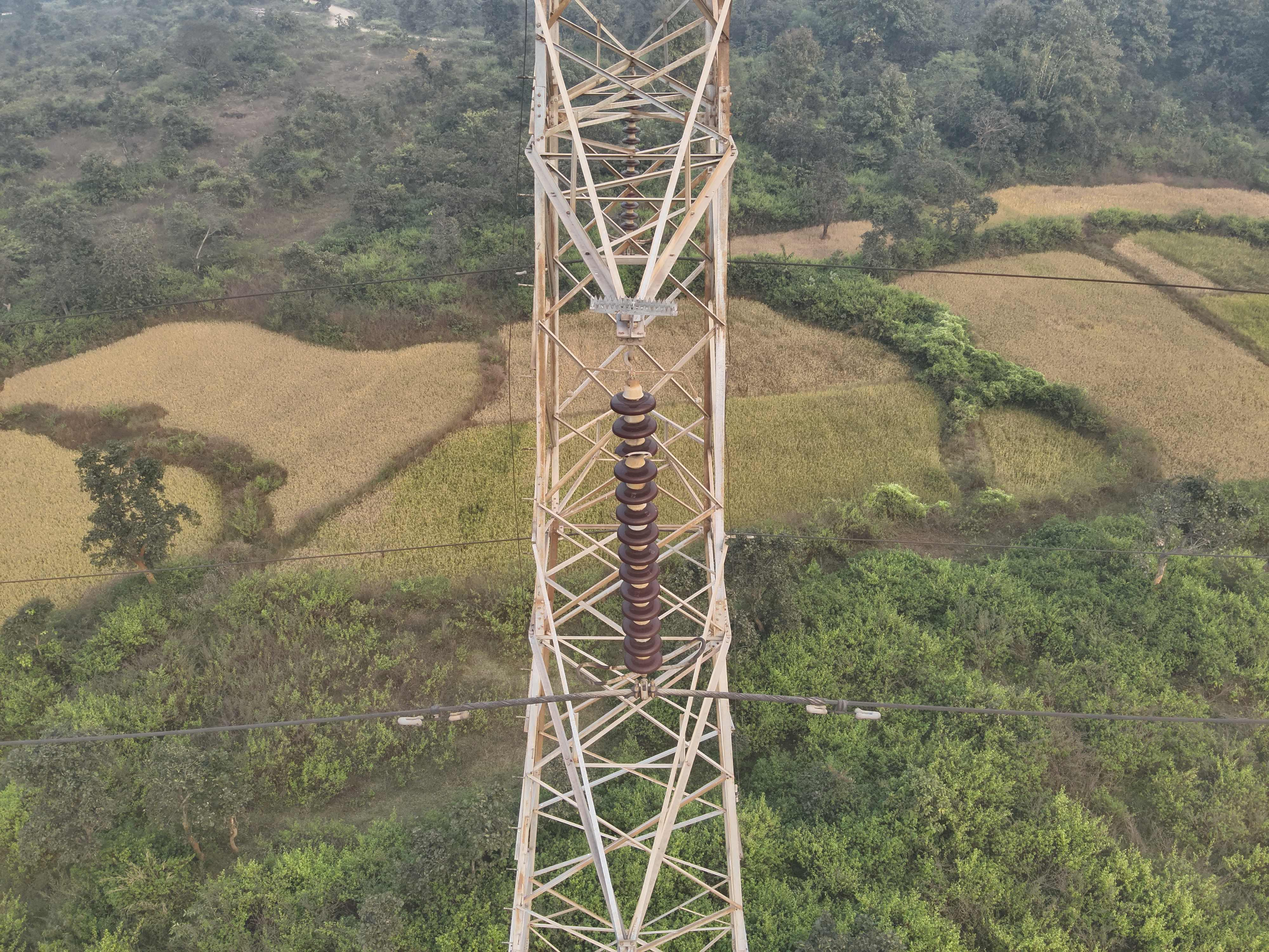broken_insulator: (613, 440, 658, 460)
